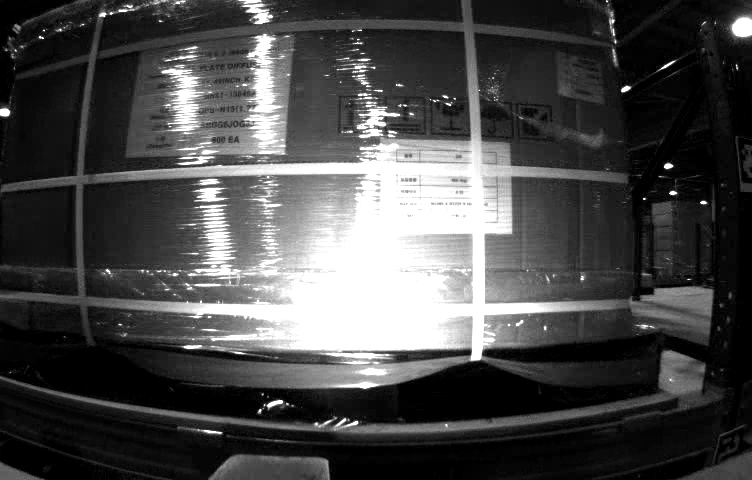True Barcode: (559, 53, 604, 103)
